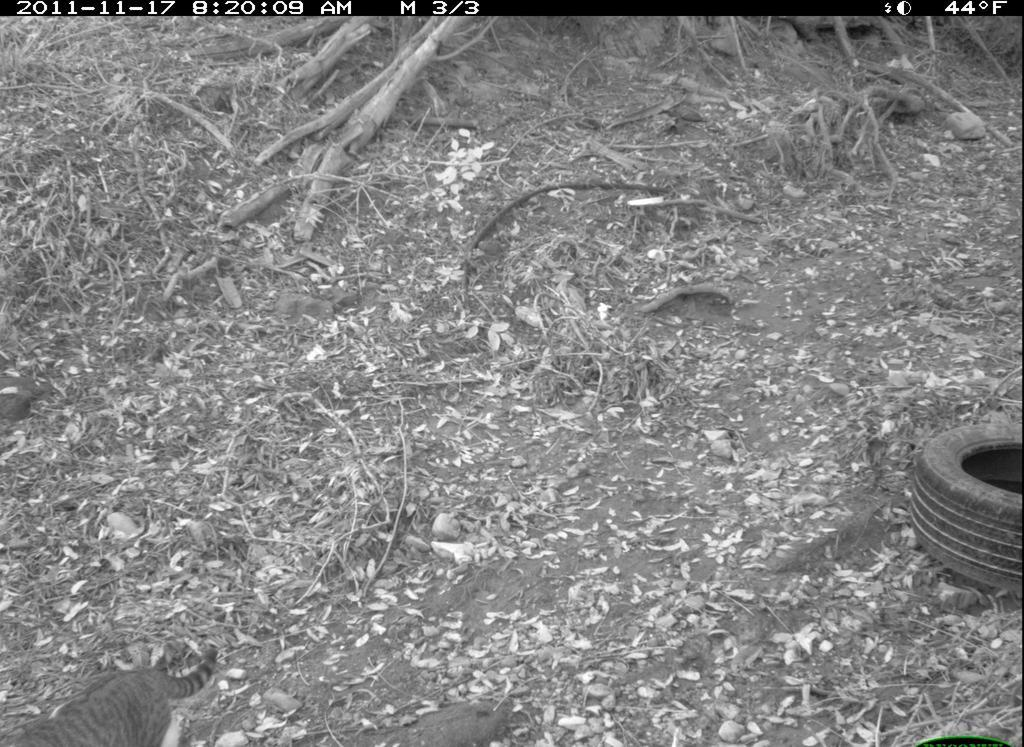cat: (6, 635, 225, 747)
